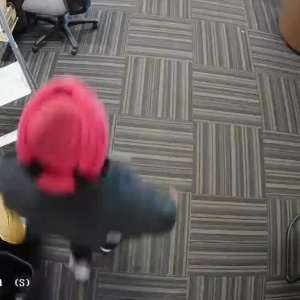person: (5, 71, 152, 257)
